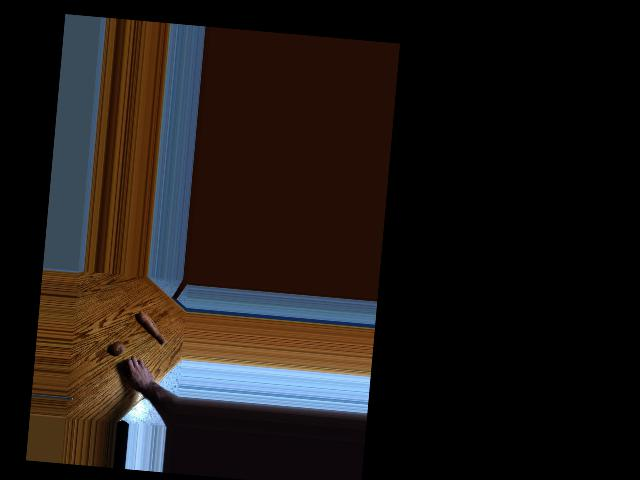onion: (120, 360, 135, 375)
